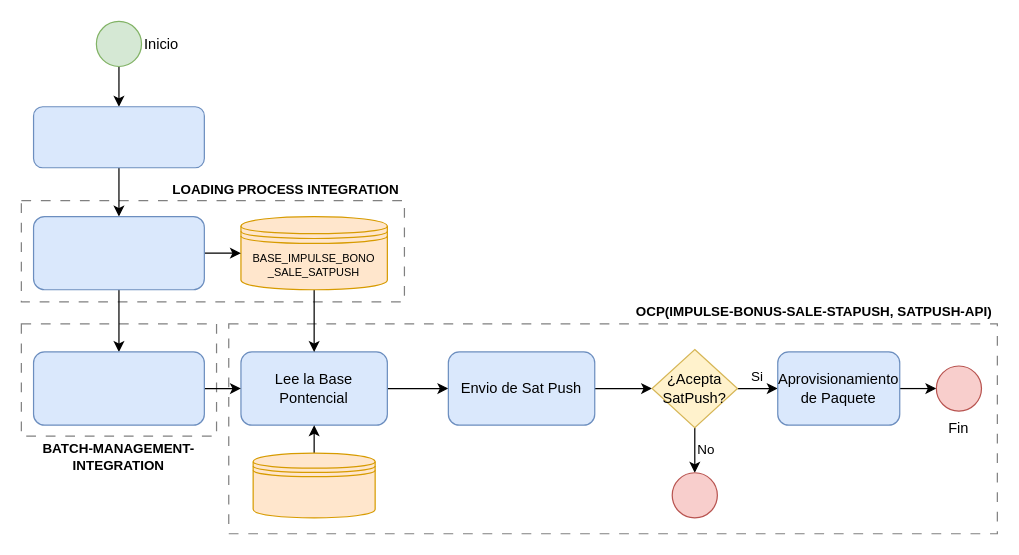
Image size: 1019x555. Some labels were removed from this diagram. The shapes that lost their labels are listed below. From the top down, each one's centre as x and y in pixels, then its label:
At point (118, 137): "Usuario carga el archivo al SFTP de L-V a las 10:00am".
At point (118, 252): "Se inserta la base a un tabla en Campsys de L-V a las 10:15 am".
At point (118, 388): "Ejecuta la aplicación a través de una petición de L-V a las 11:30 am".
At point (313, 485): "TENOR_IMPULSE_ BONUS_SALE_SAT".
